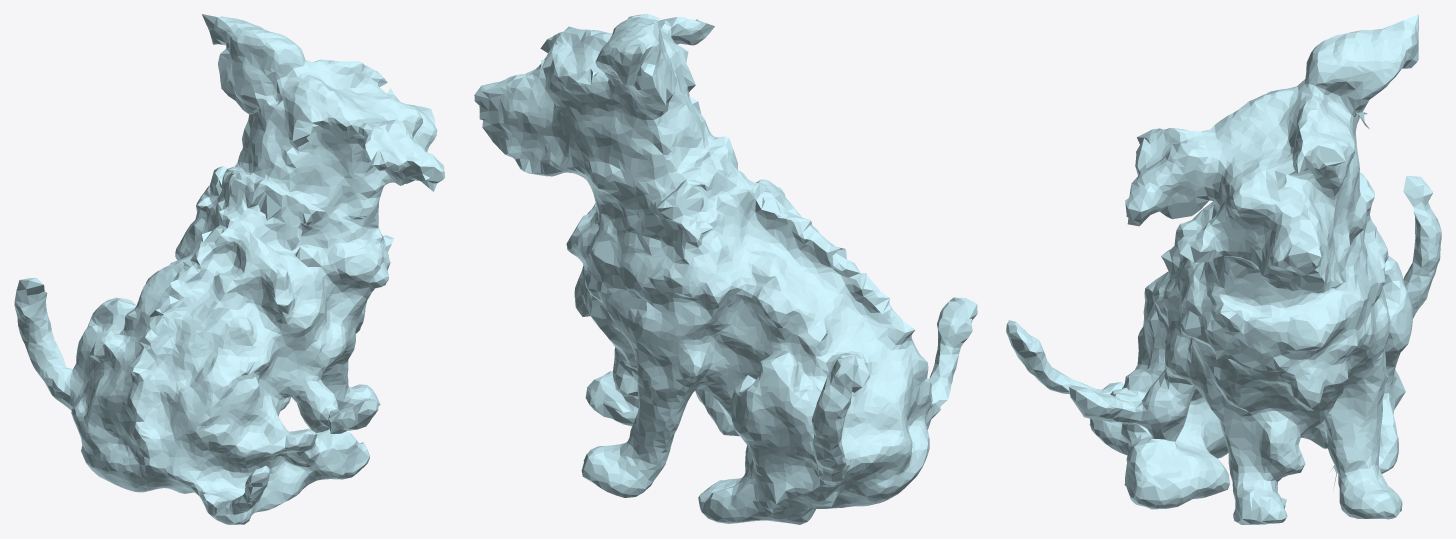
The model's file is black_dog-canny.glb.
3 renders of one model, left to right at view 1: azimuth 30°, elevation 25°; view 2: azimuth 150°, elevation 25°; view 3: azimuth 270°, elevation 25°, orthographic. The views are drawn at different scales.
Visible parts, largest first — view 1: extracted_mesh; view 2: extracted_mesh; view 3: extracted_mesh.
Boxes of the visible parts, x1,y1,x2,y2 form: extracted_mesh: [14, 14, 444, 524]; extracted_mesh: [474, 14, 977, 524]; extracted_mesh: [1006, 14, 1441, 524].
Bounding box in the file's own units: 0.9741 × 1.04 × 0.8197.
1 material, 1 textured.
